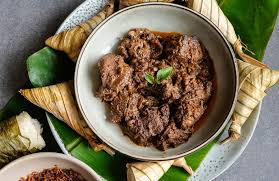rendang: (80, 18, 224, 157)
